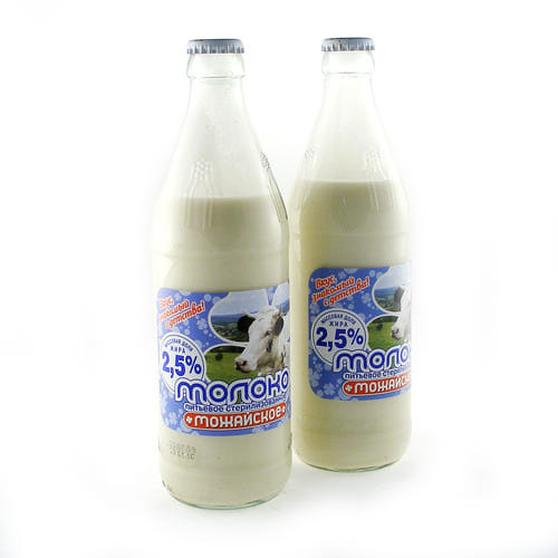milk: (124, 20, 301, 526), (281, 26, 434, 491)
